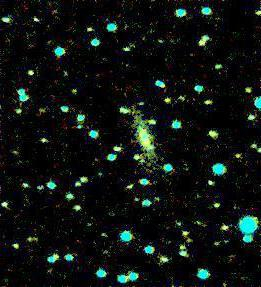star: (223, 140, 253, 170)
